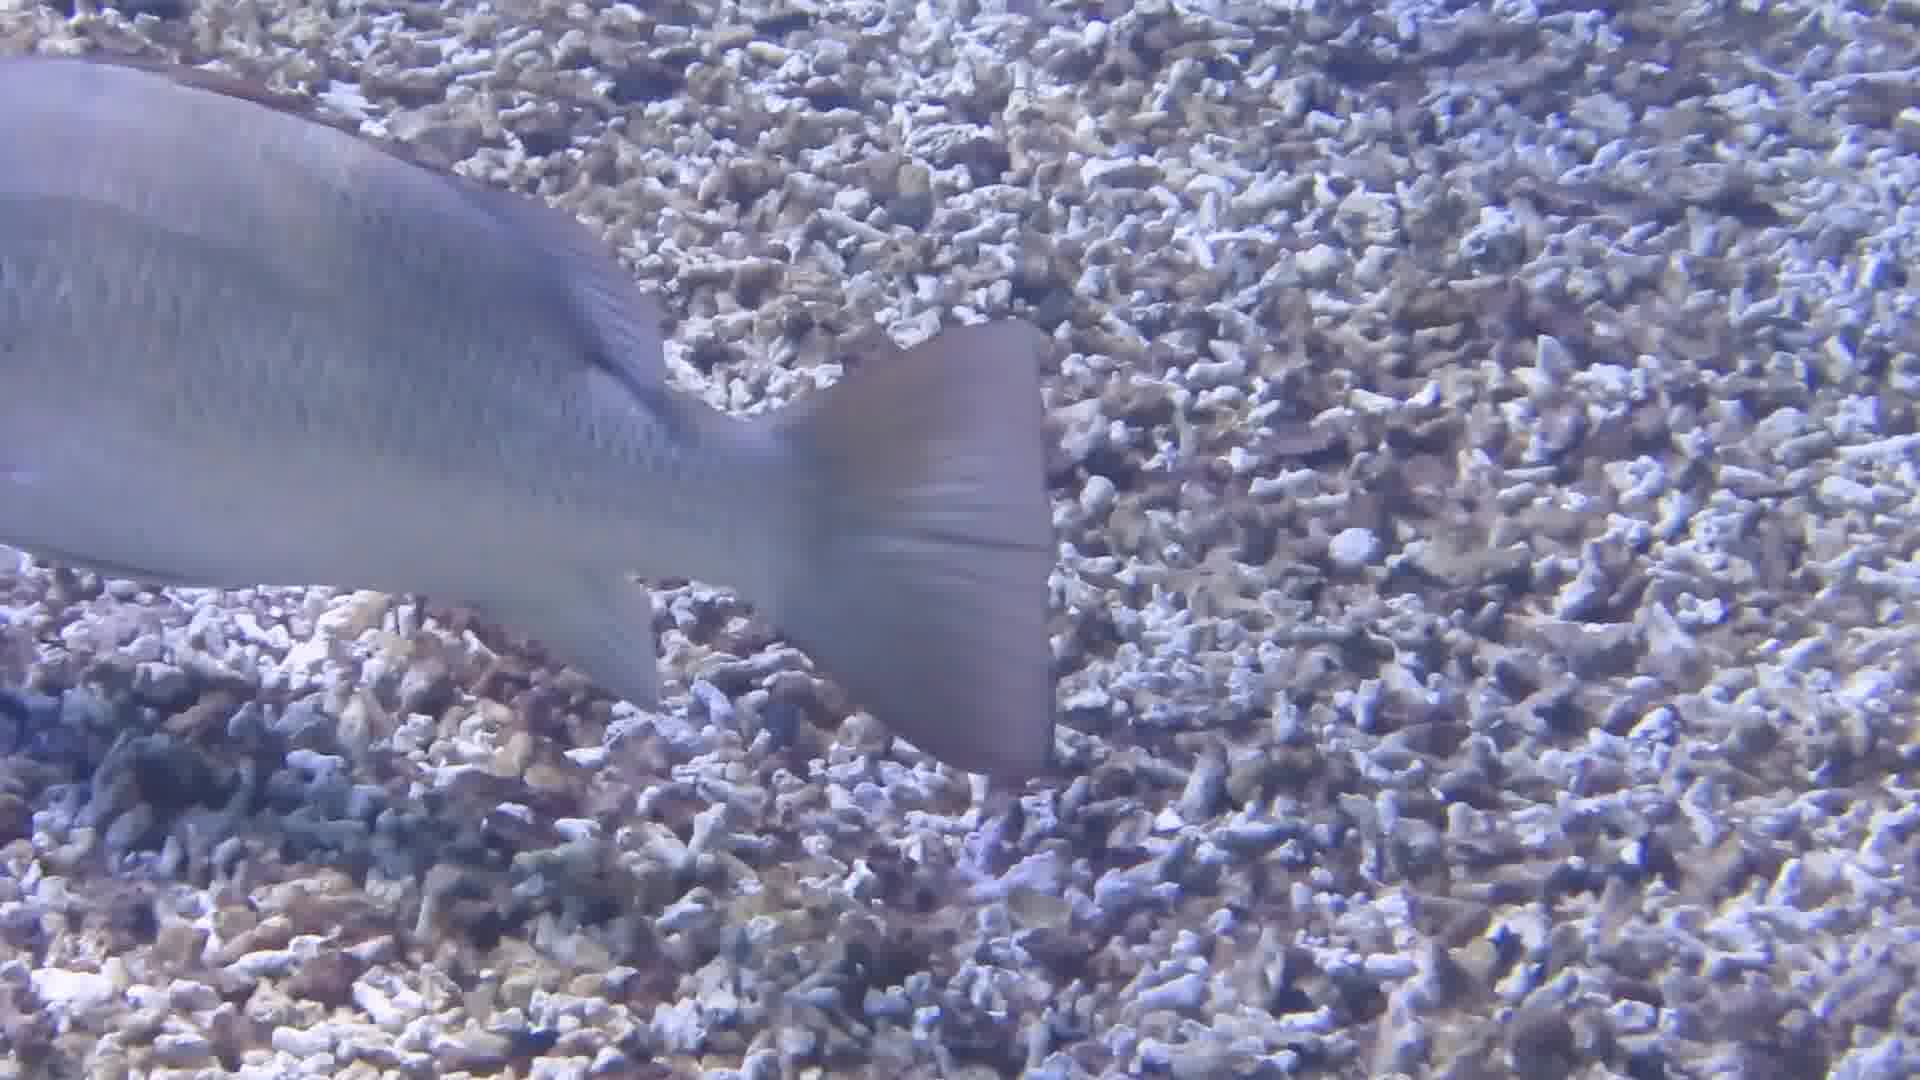Lutjanus argentimaculatus: (1, 61, 783, 661)
